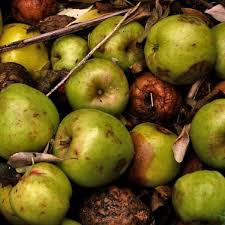damaged_apple: (57, 110, 132, 180), (146, 12, 214, 78), (2, 84, 61, 155), (126, 121, 186, 185), (90, 10, 150, 72), (10, 164, 72, 219), (69, 59, 129, 110), (171, 171, 222, 222)
